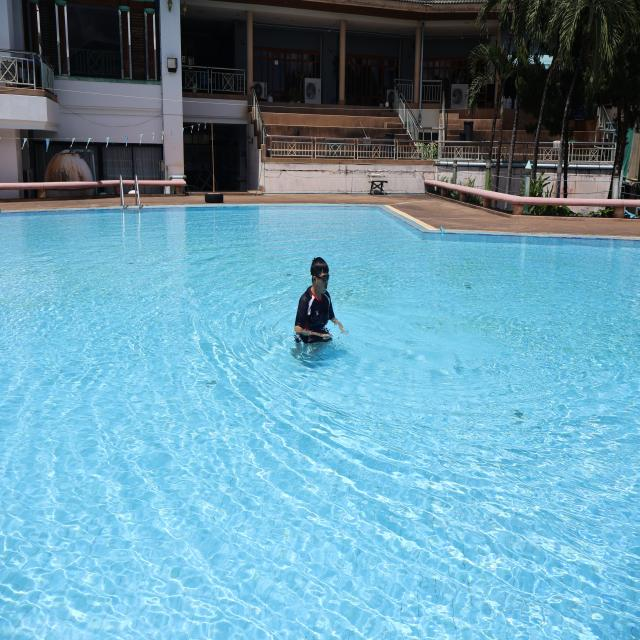Swimming: (286, 244, 356, 378)
